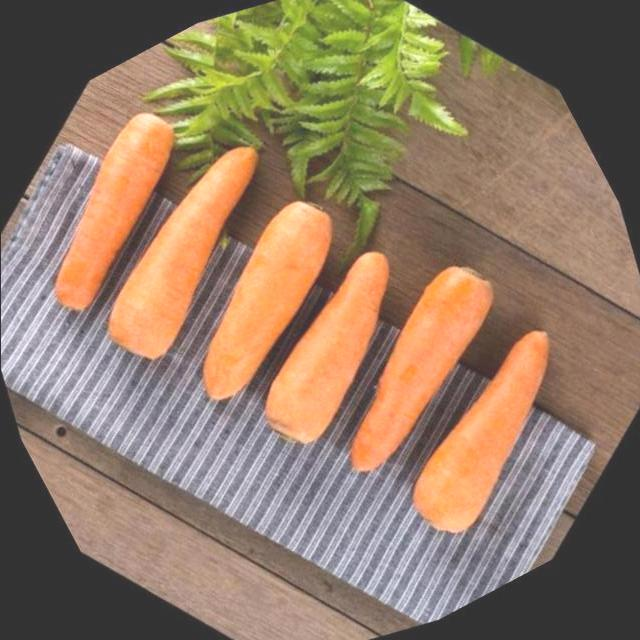carrot: (3, 66, 369, 432), (238, 196, 590, 546), (312, 253, 640, 606), (165, 182, 502, 517), (98, 135, 433, 469), (0, 54, 274, 376)
